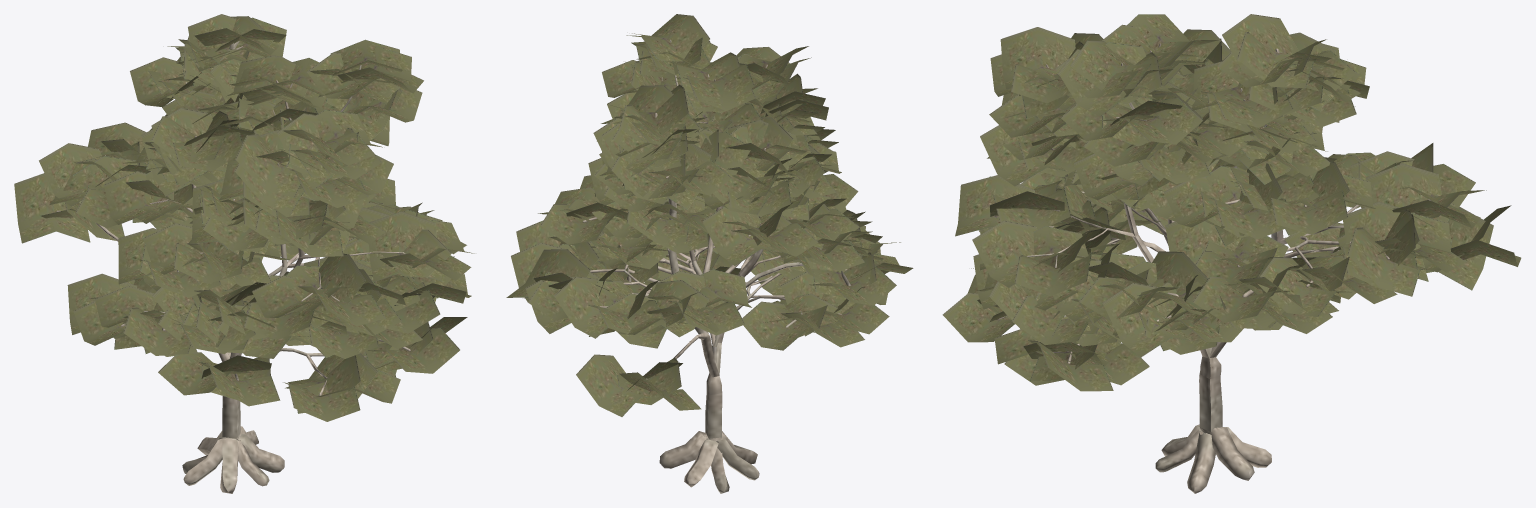
File: tree_5.obj
The picture shows the model from 3 angles, left to right: view 1: azimuth 30°, elevation 25°; view 2: azimuth 150°, elevation 25°; view 3: azimuth 270°, elevation 25°; orthographic projection. The views are drawn at different scales.
Visible parts, largest first — view 1: Sonnerat; view 2: Sonnerat; view 3: Sonnerat.
Part boxes in pixels (<box>): Sonnerat: <box>14,14,474,493</box>; Sonnerat: <box>506,14,913,493</box>; Sonnerat: <box>942,14,1521,493</box>.
Size of the model in its own units: 15.63 by 17.97 by 19.77.
Materials: 1 (1 with a texture image).
